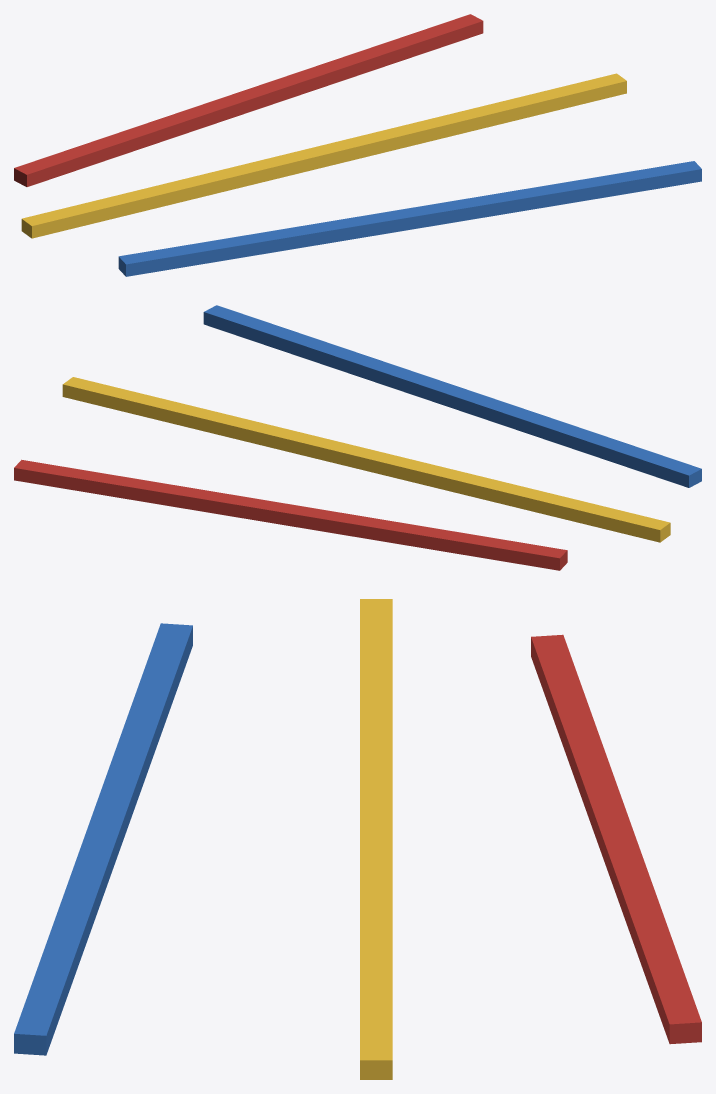
File: floor_cables.glb
3 views of the same model, one above another, from view 1: azimuth 30°, elevation 25°; view 2: azimuth 150°, elevation 25°; view 3: azimuth 270°, elevation 25° (orthographic). The views are drawn at different scales.
Visible parts, largest first — view 1: floor_cables_mesh; view 2: floor_cables_mesh; view 3: floor_cables_mesh.
Part boxes in pixels (box(x1,y1,x2,y2)): floor_cables_mesh: box(14, 14, 701, 276); floor_cables_mesh: box(14, 305, 701, 570); floor_cables_mesh: box(14, 599, 701, 1079).
Size of the model in its own units: 1 by 0.02 by 0.6304.
